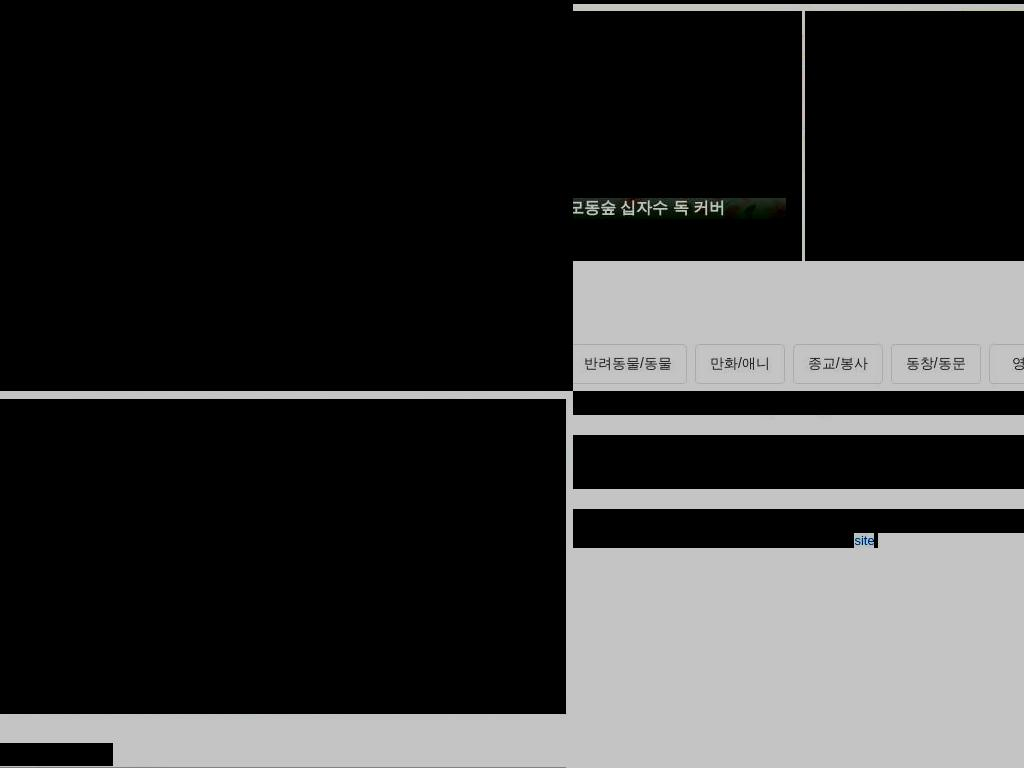button: (0, 0, 573, 391), (573, 11, 802, 261), (805, 11, 1024, 261), (573, 344, 687, 384), (694, 344, 785, 384), (792, 344, 883, 384), (890, 344, 981, 384), (988, 344, 1024, 384)
heading: (13, 233, 573, 342), (573, 293, 1024, 325), (573, 435, 1024, 459), (573, 509, 1024, 533), (573, 391, 1024, 400), (0, 743, 113, 766)
image: (0, 0, 573, 391), (0, 399, 566, 714), (573, 11, 802, 261), (805, 11, 1024, 261), (6, 543, 21, 571), (541, 543, 556, 571), (233, 691, 244, 702)
link: (573, 226, 786, 243), (821, 226, 1024, 243), (854, 533, 876, 548)
text: (573, 459, 1024, 489), (13, 214, 573, 234), (573, 400, 1024, 415), (573, 178, 786, 199), (573, 198, 786, 219), (821, 178, 1024, 199), (821, 198, 1024, 219), (573, 533, 854, 548), (13, 360, 98, 378), (102, 361, 185, 377), (874, 533, 878, 548)
